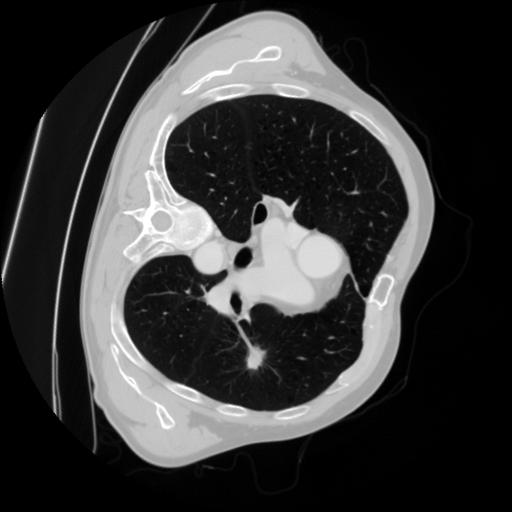nodule: (238, 342, 273, 377)
